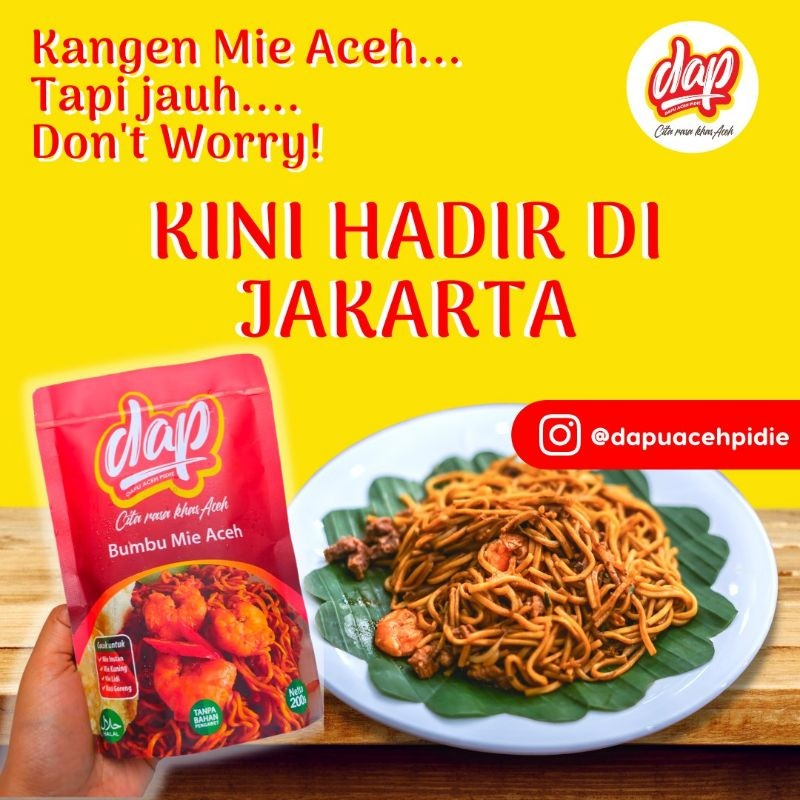mie_aceh: (328, 468, 701, 697)
